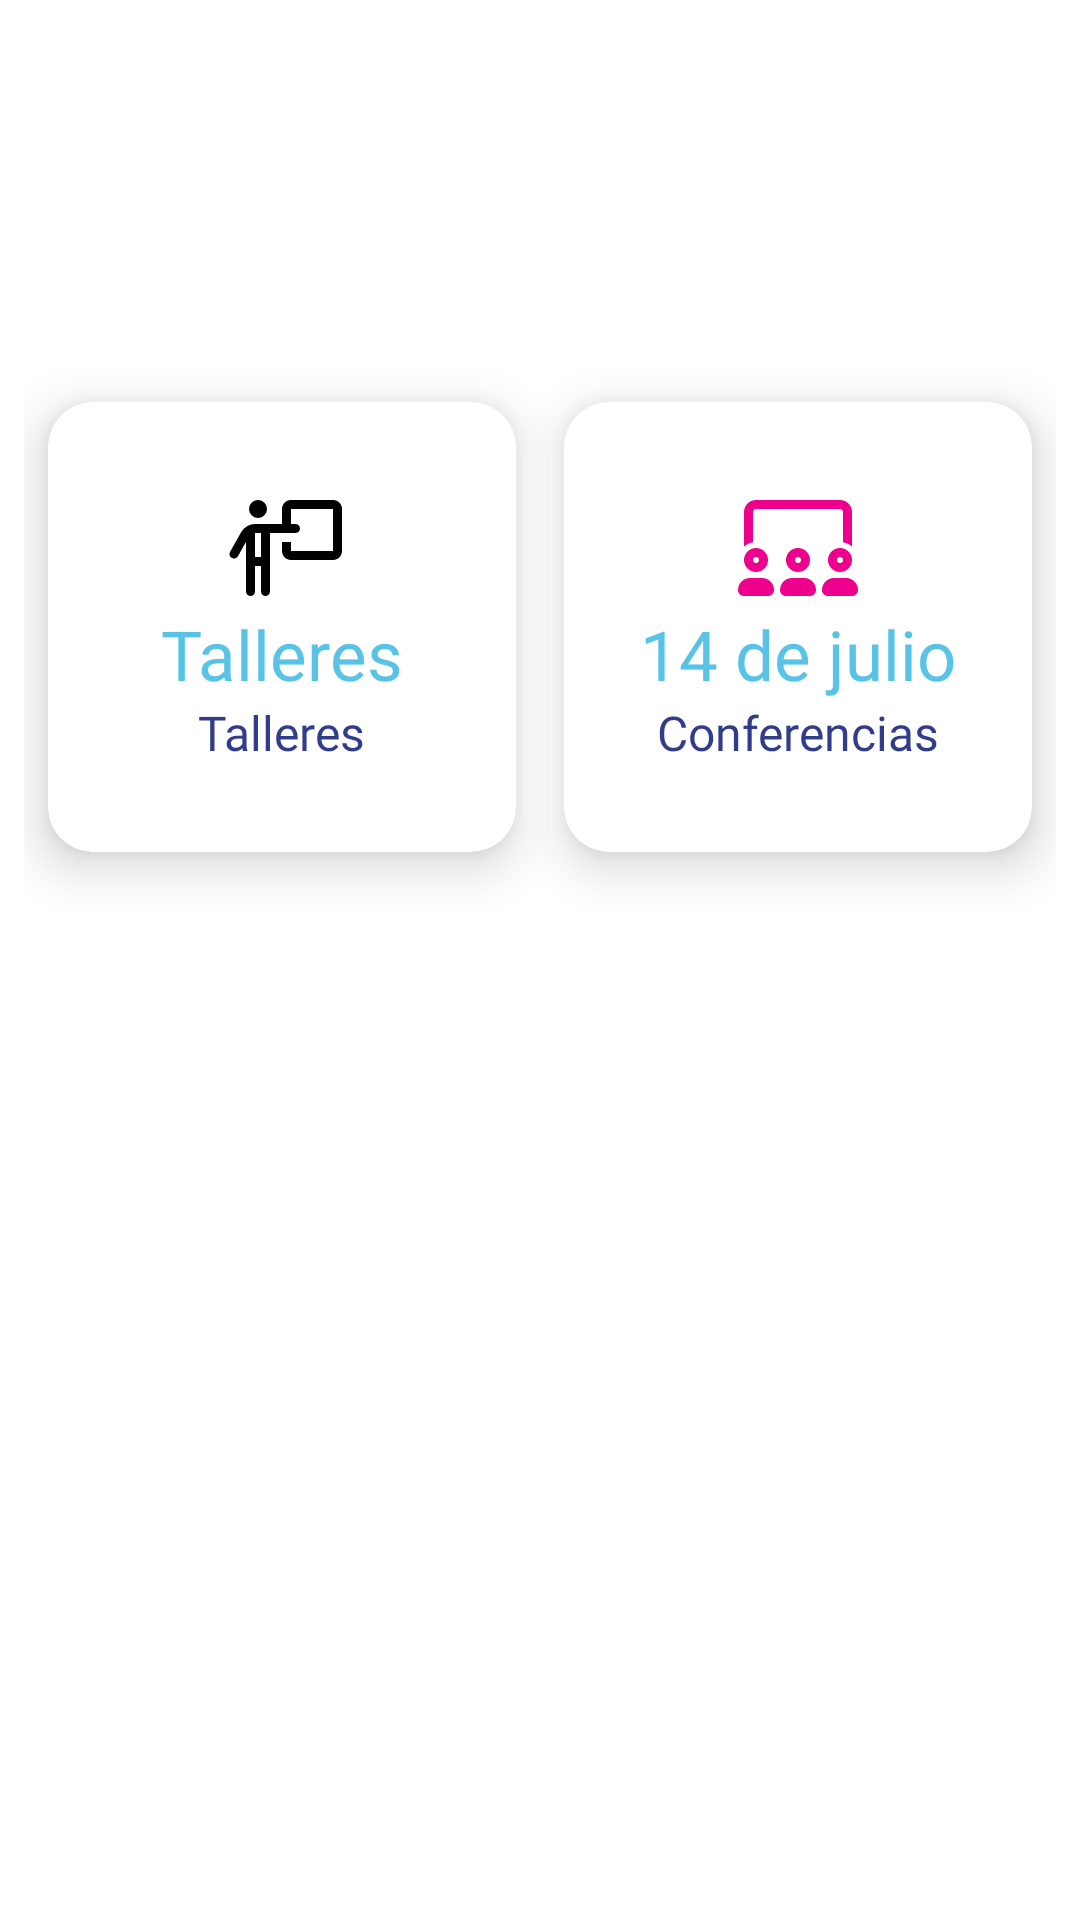

Icon click points for this 1080*1920 phone screenshot, format point (x, y):
person chalkboard: point (285, 548)
screen users: point (798, 548)
